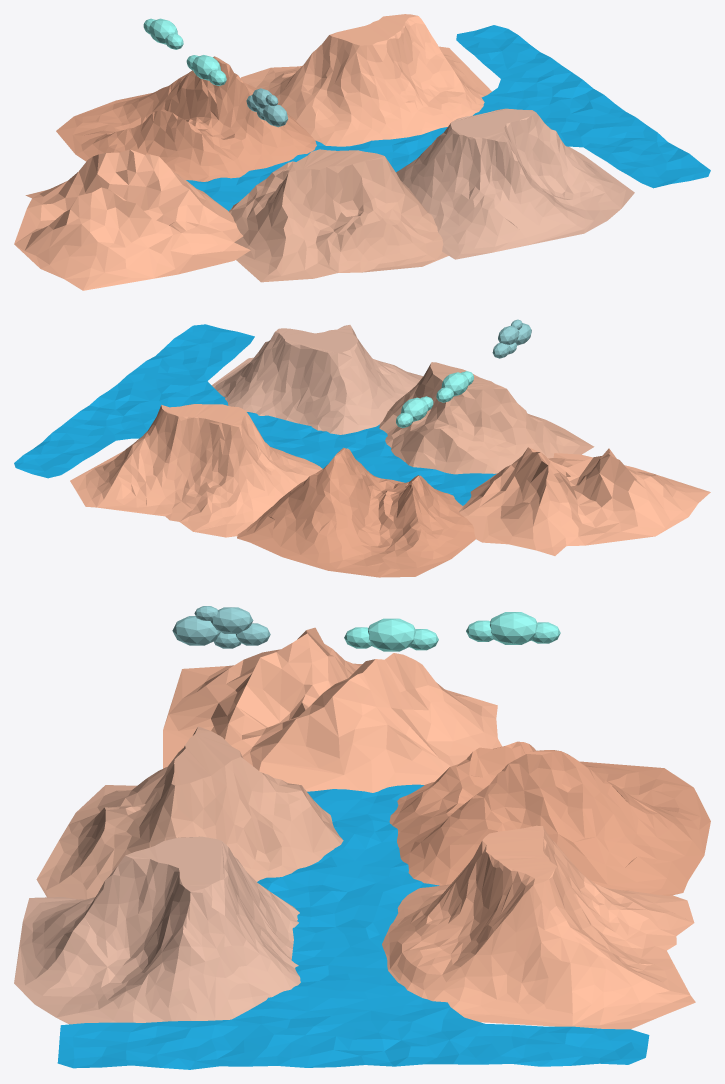
Rendered from landscape.FBX.
3 renders of one model, top to bottom at view 1: azimuth 30°, elevation 25°; view 2: azimuth 150°, elevation 25°; view 3: azimuth 270°, elevation 25°, orthographic. The views are drawn at different scales.
Parts seen in each view (by area): view 1: Mountain 1, Mountain 5, Mountain 3, Mountain 2, river, Mountain 4, cloud 1, cloud 2, cloud 2.2; view 2: Mountain 2, river, Mountain 4, Mountain 5, Mountain 1, Mountain 3, cloud 1, cloud 2.2, cloud 2; view 3: river, Mountain 2, Mountain 1, Mountain 5, Mountain 4, Mountain 3, cloud 1, cloud 2.2, cloud 2.
Part boxes in pixels (x1,y1,x2,y2): Mountain 1: (396, 108, 634, 259); Mountain 5: (14, 149, 250, 290); Mountain 3: (229, 149, 448, 282); Mountain 2: (240, 14, 491, 146); river: (186, 25, 710, 211); Mountain 4: (56, 56, 316, 181); cloud 1: (246, 88, 287, 127); cloud 2: (143, 18, 183, 49); cloud 2.2: (186, 55, 226, 85); Mountain 2: (70, 404, 322, 537); river: (14, 324, 496, 505); Mountain 4: (237, 447, 475, 577); Mountain 5: (459, 447, 710, 555); Mountain 1: (211, 325, 422, 434); Mountain 3: (379, 362, 594, 474); cloud 1: (492, 319, 531, 358); cloud 2.2: (436, 371, 473, 402); cloud 2: (396, 396, 433, 427); river: (57, 784, 649, 1069); Mountain 2: (382, 825, 695, 1029); Mountain 1: (14, 836, 300, 1024); Mountain 5: (163, 627, 501, 792); Mountain 4: (389, 741, 710, 895); Mountain 3: (36, 726, 343, 899); cloud 1: (172, 606, 270, 648); cloud 2.2: (344, 618, 438, 651); cloud 2: (466, 612, 560, 644).
Bounding box in the file's own units: 167 × 39.78 × 119.
